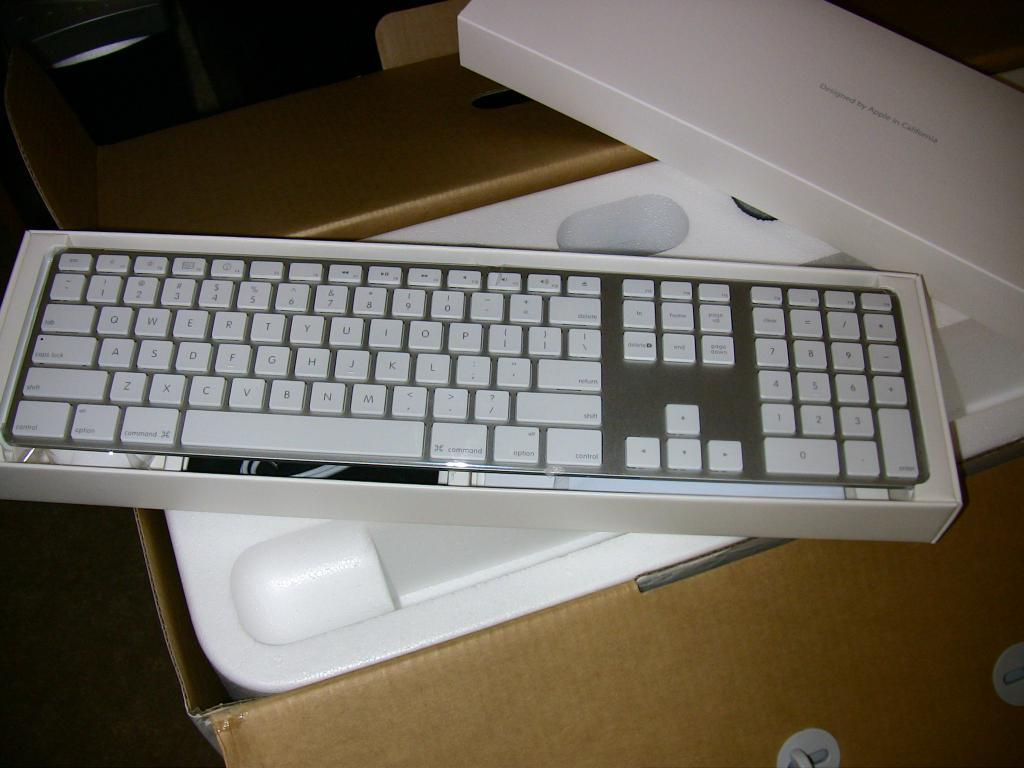Computer-keyboard: (0, 244, 927, 491)
